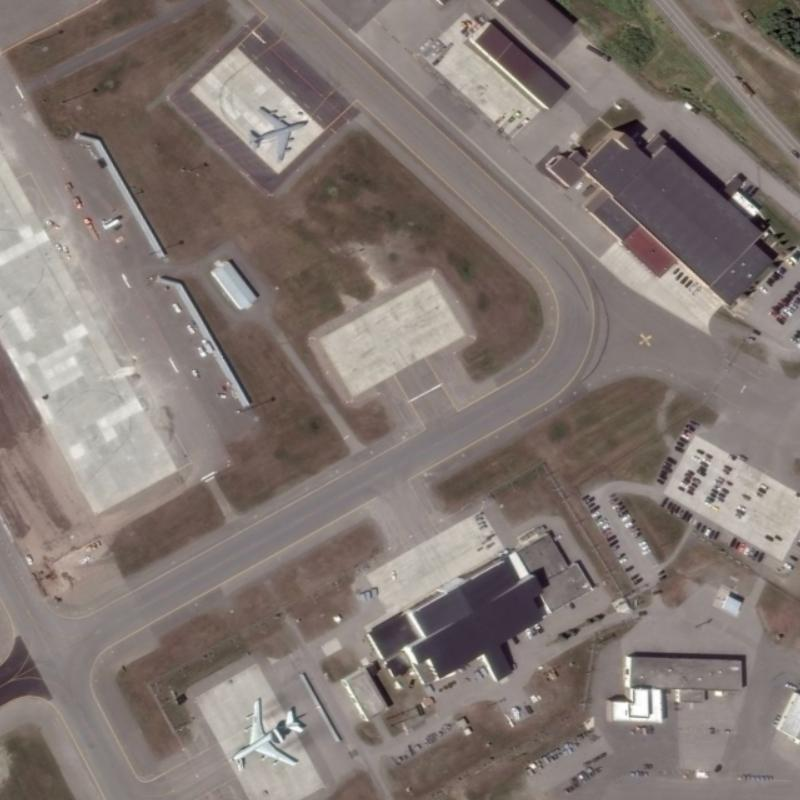A14: (244, 101, 310, 164)
A7: (230, 695, 305, 767)
